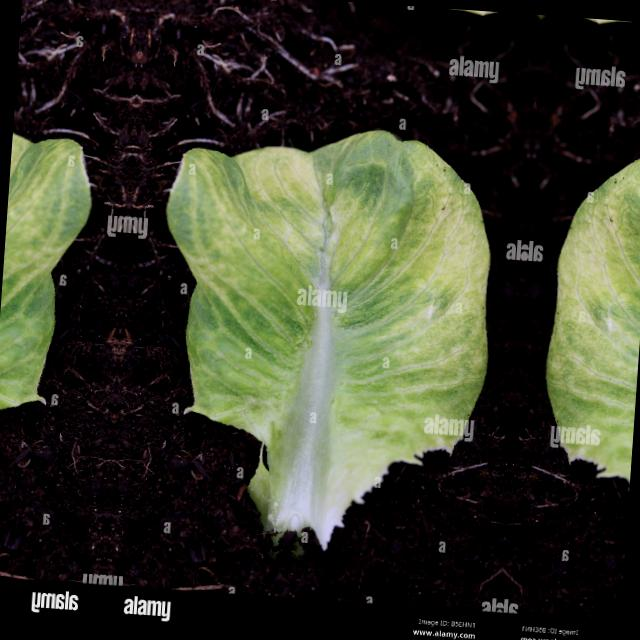lettuce mosaic virus: (158, 142, 462, 502), (0, 129, 83, 474), (573, 170, 640, 514)
